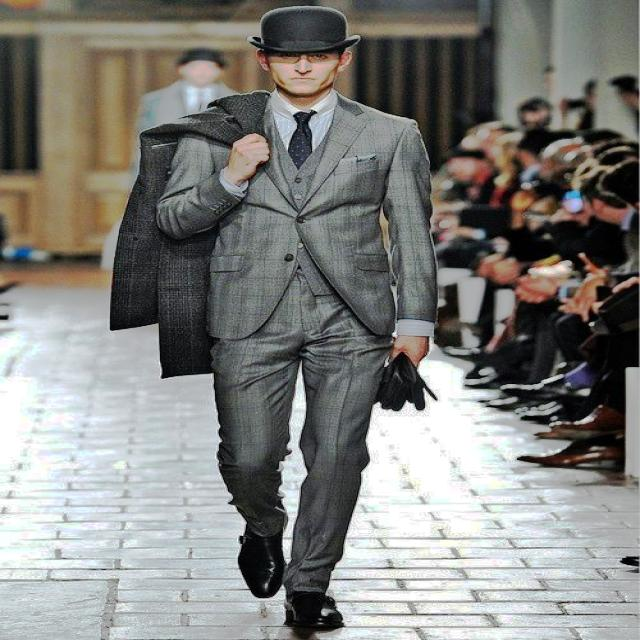TOPI: (234, 2, 371, 60)
